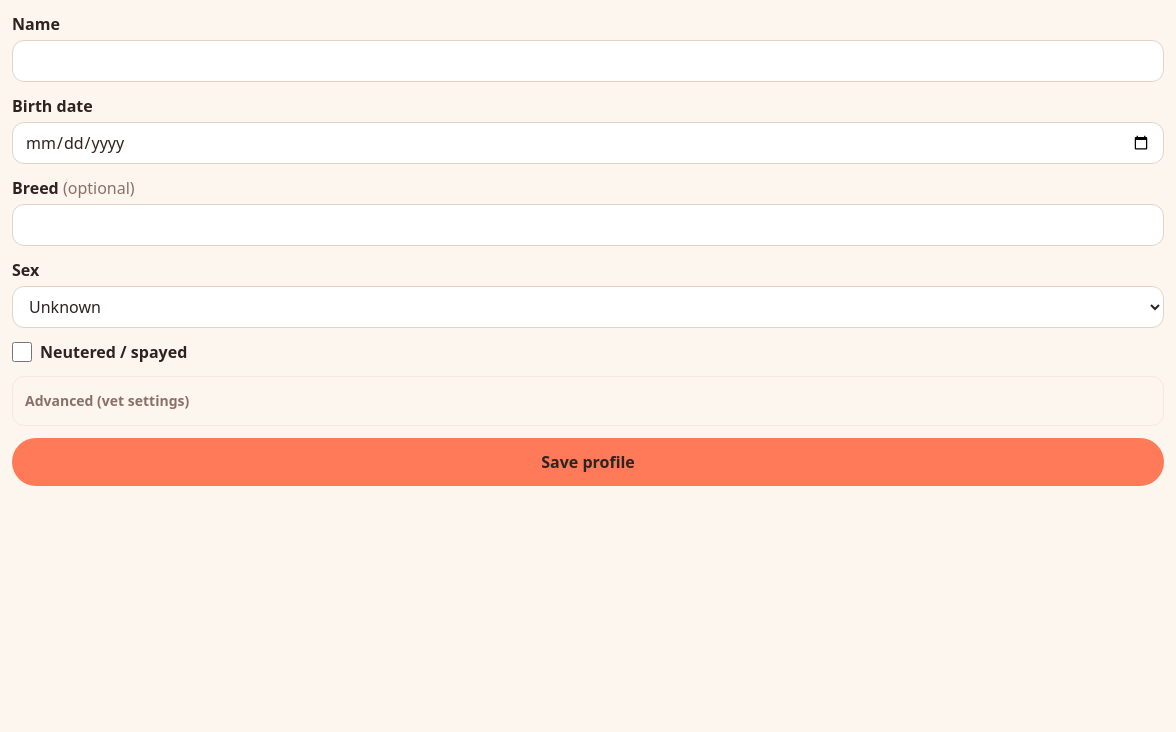
Scenario: CatForm › toggles the neuter date field with the neutered checkbox
Expected: the field labelled "neuter date" is not shown
Click the checkbox with test id "cat-neutered" at (22, 352), box [12, 342, 32, 362]
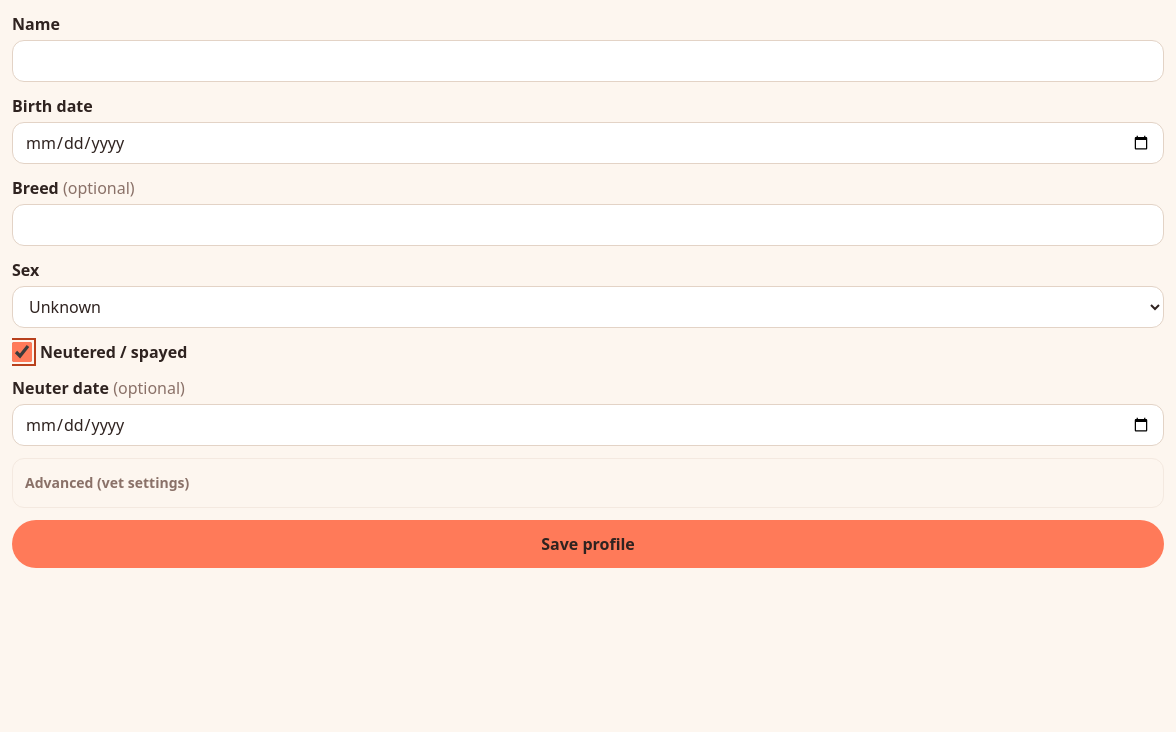
Now the date field labelled "Neuter date (optional)" is shown, box [12, 404, 1164, 446]
Click the checkbox with test id "cat-neutered" at (22, 352), box [12, 342, 32, 362]
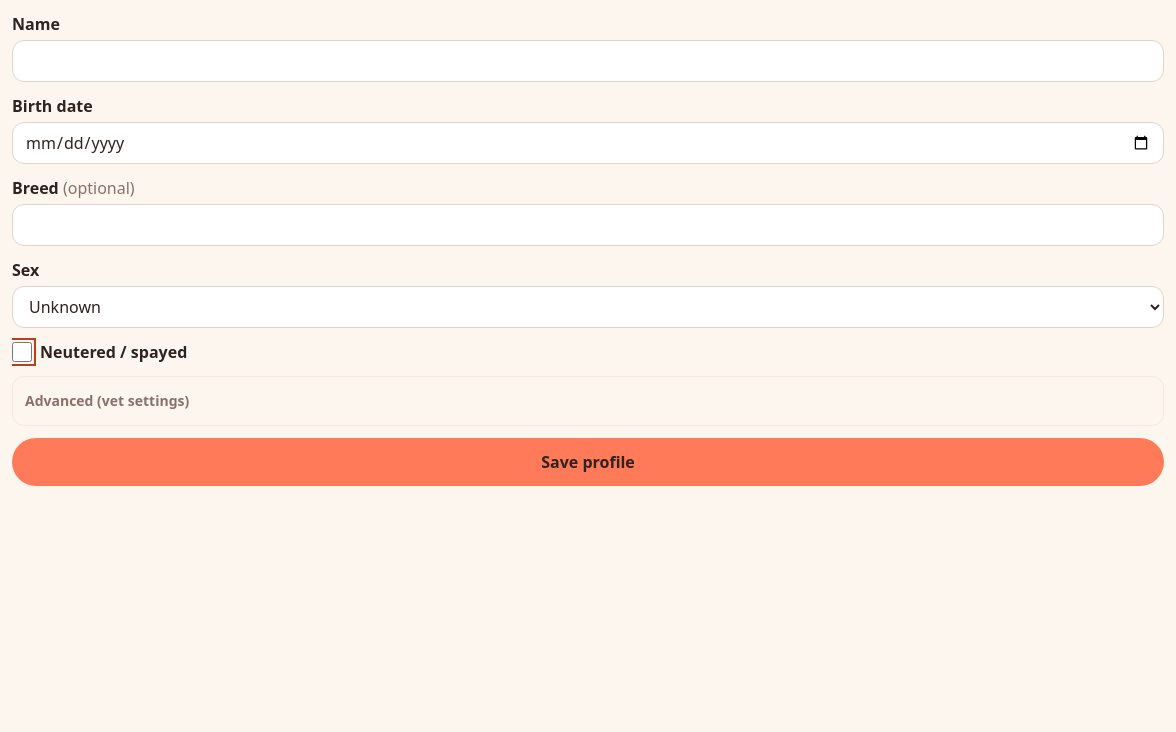
Now the label labelled "Neuter date" is gone
